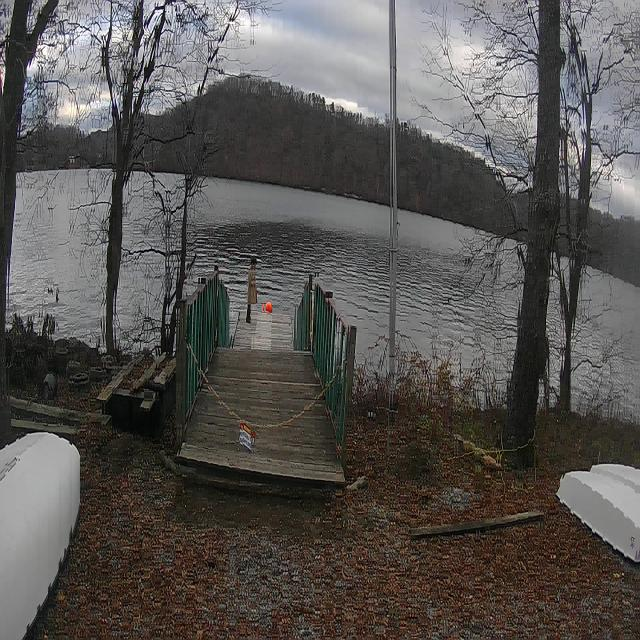Buoy: (265, 300, 273, 314)
